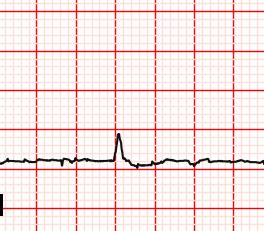Poor R Progression: (109, 128, 128, 162)
